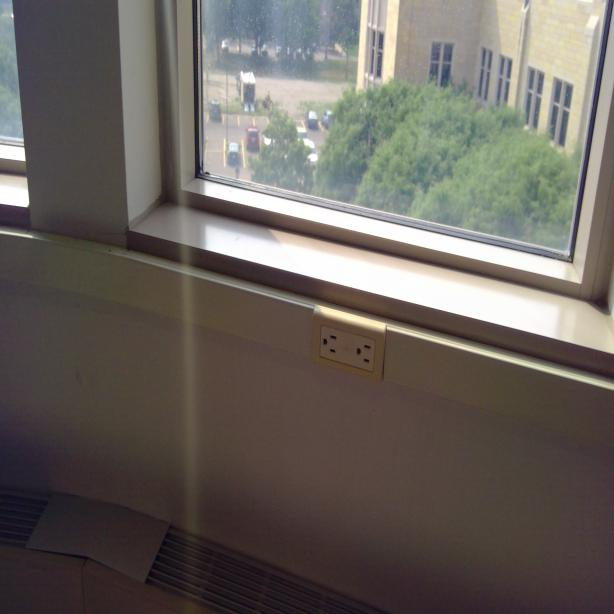typeb: (316, 326, 341, 360), (353, 337, 374, 369)
